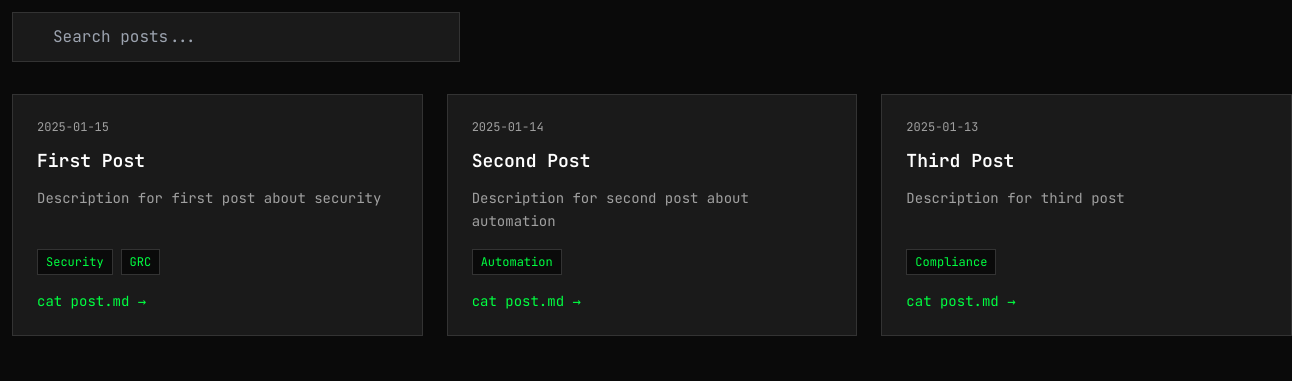
Test: BlogList Component › should filter posts by description
Type "automation" into the field with placeholder "Search posts...".
click(236, 37); type("automation")  # box [12,12,460,62]
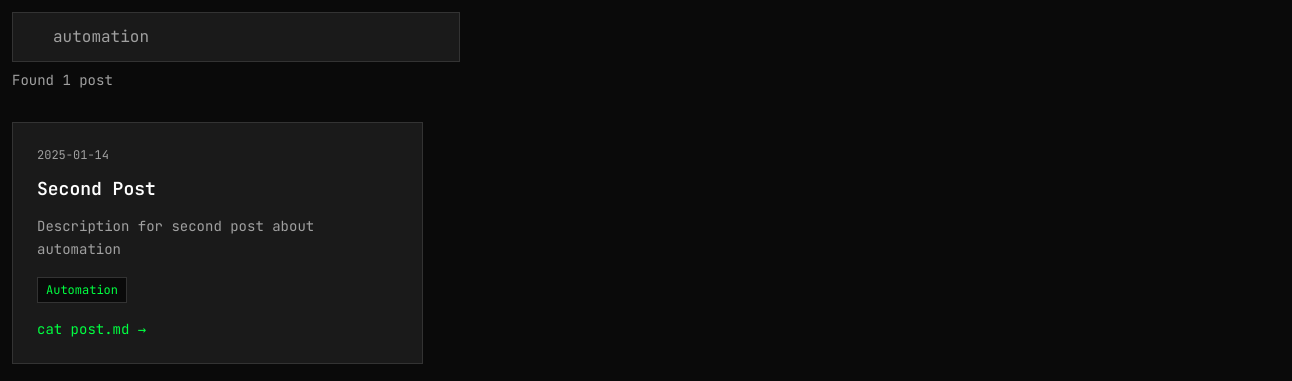
Expected: the heading "Second Post" is shown, [37,177,156,200]
Result: the link "First Post" is gone
